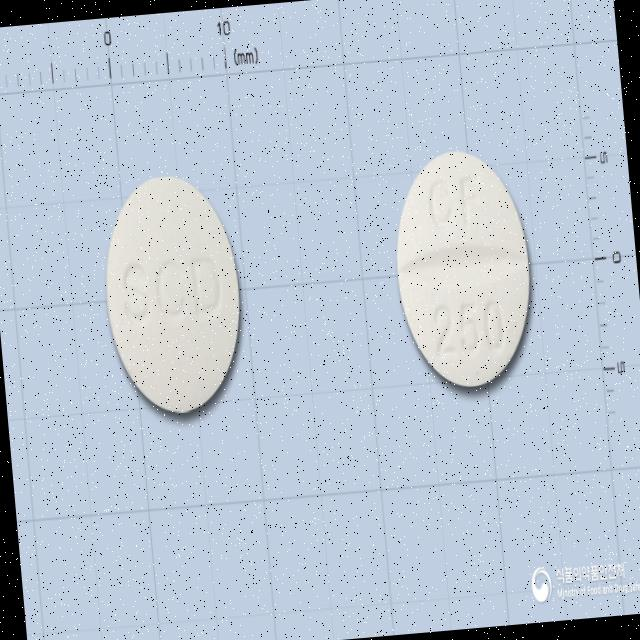Arava: (96, 170, 250, 419), (386, 145, 540, 393)
